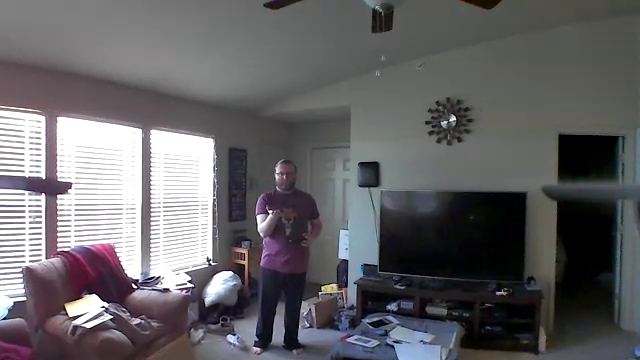land: (262, 205, 287, 216)
